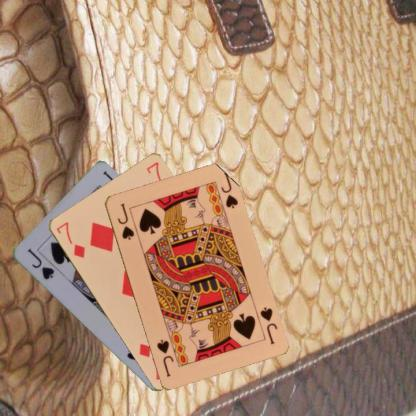7d: (53, 219, 86, 259)
Js: (24, 245, 64, 280), (114, 200, 136, 241), (257, 304, 279, 345)
